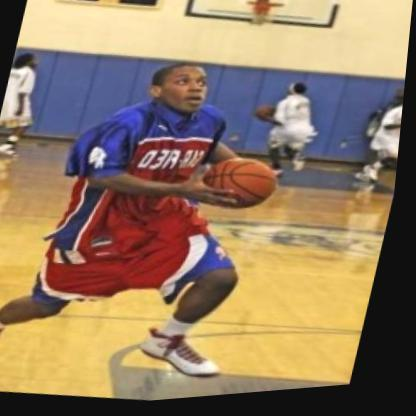basketball: (203, 152, 288, 224)
